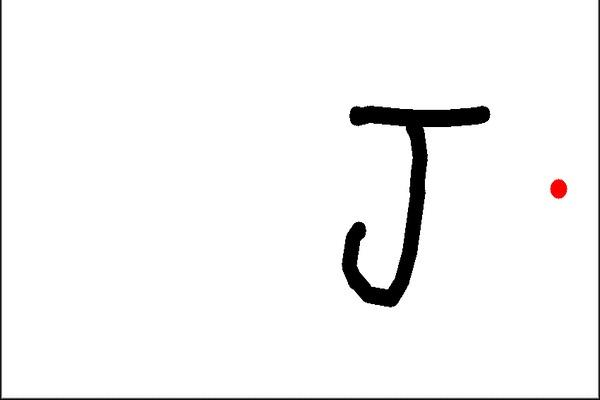J: (328, 94, 497, 311)
